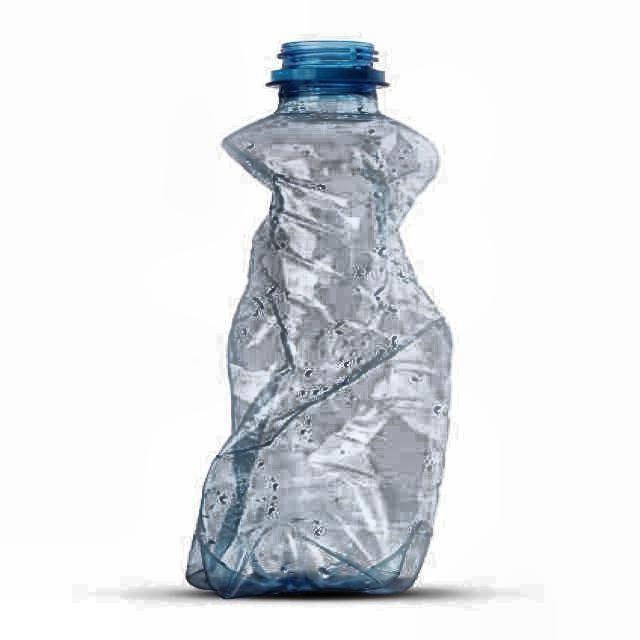plastic: (184, 38, 455, 601)
